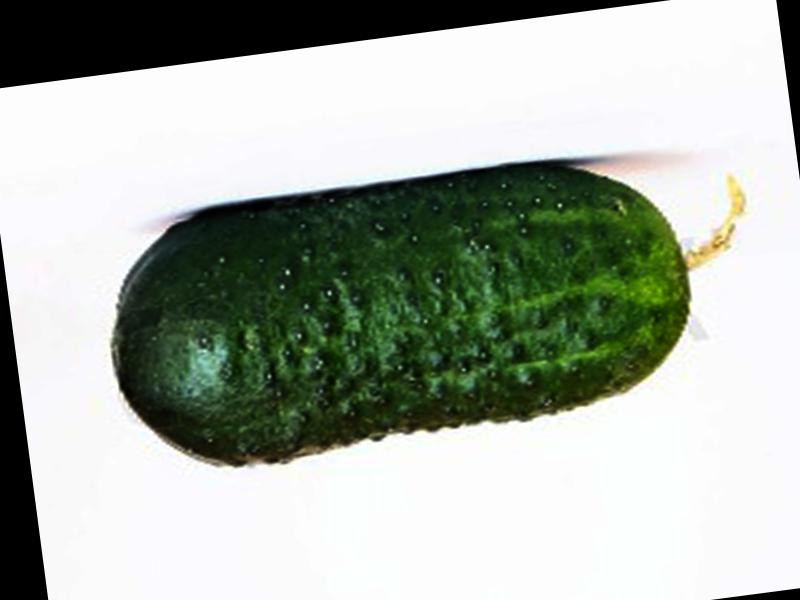Cucumber: (98, 134, 772, 486)
